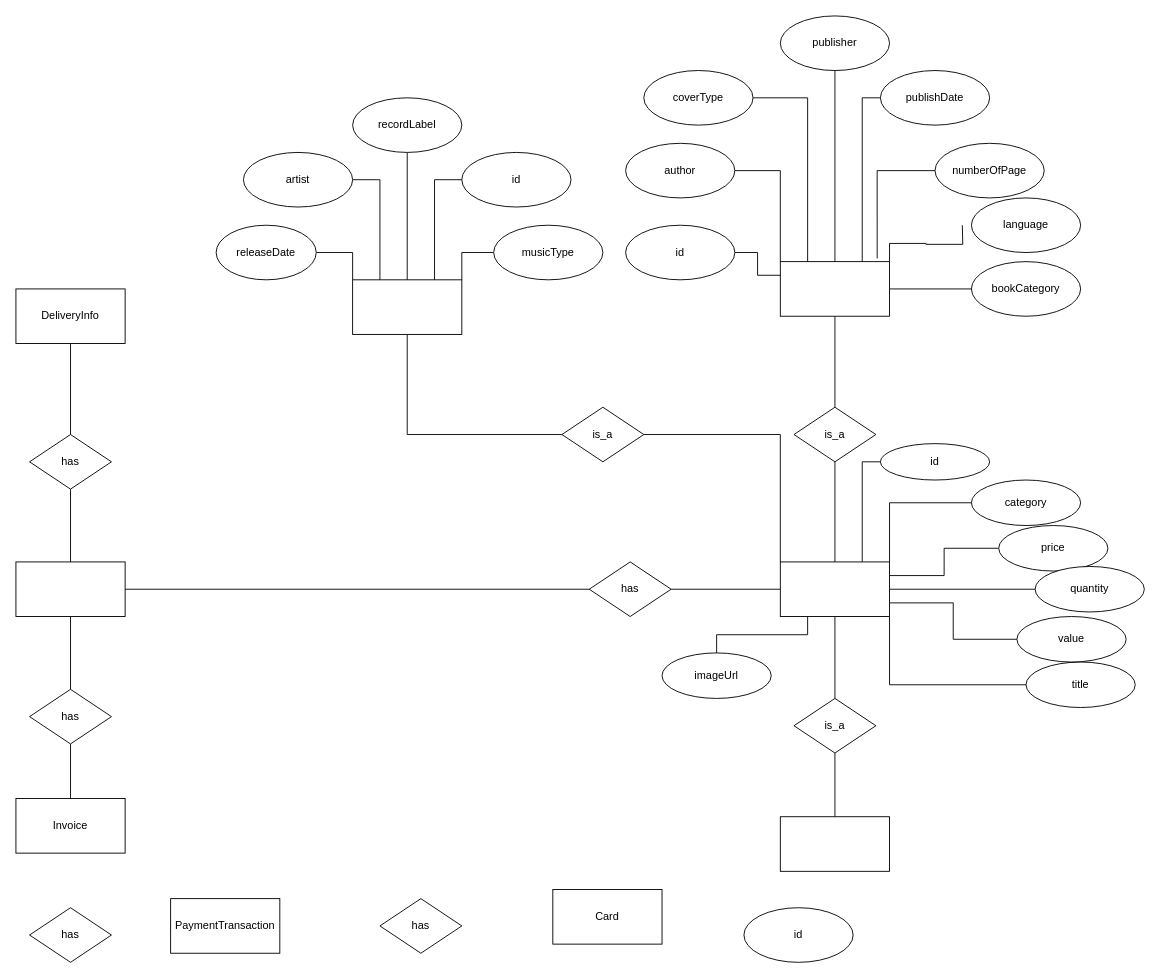
The diagram is 1160 pixels wide and 978 high, and some of its shapes have lost their labels. The shapes that lost their labels are listed below. From the top down, each one's box as (x1, y1, x2, y2) in pixels, then its label:
(352, 279, 462, 334): CD
(779, 261, 890, 316): Book
(15, 561, 125, 617): Order
(779, 561, 890, 617): Media
(779, 816, 890, 871): DVD
